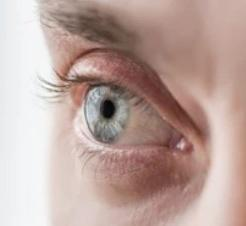eye: (82, 82, 131, 144)
